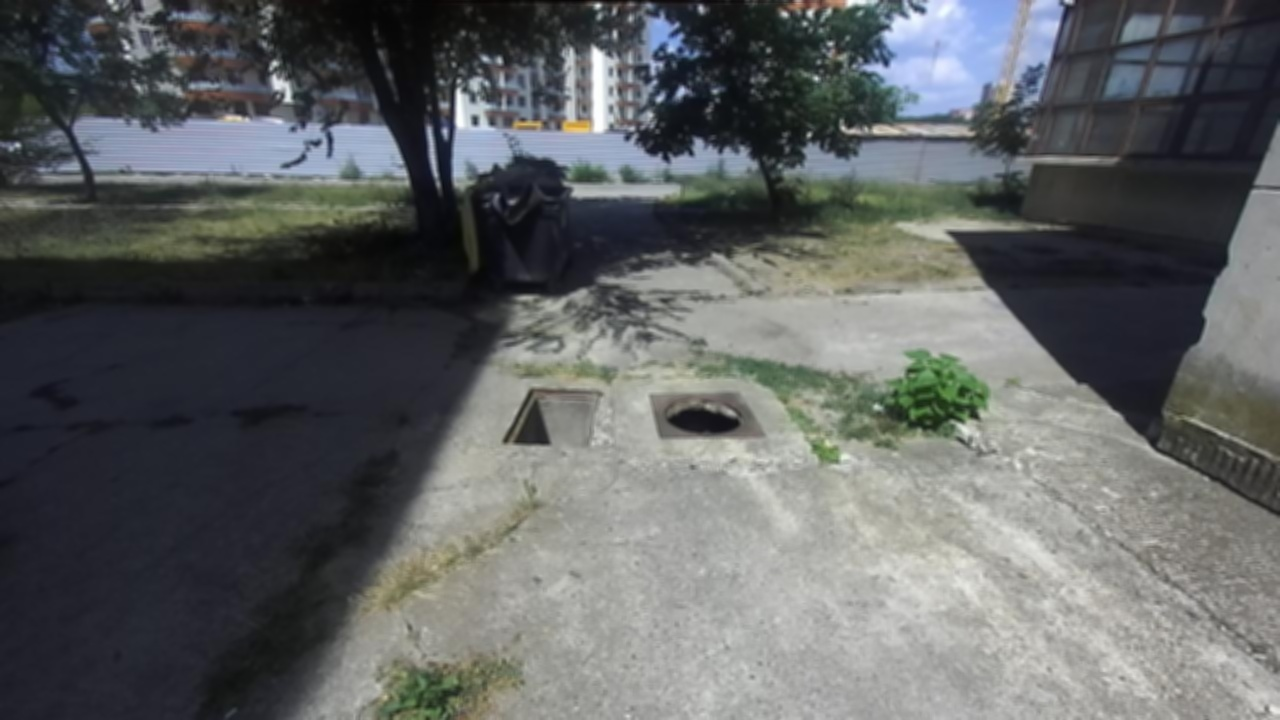drain: (501, 381, 605, 448), (661, 392, 749, 434)
